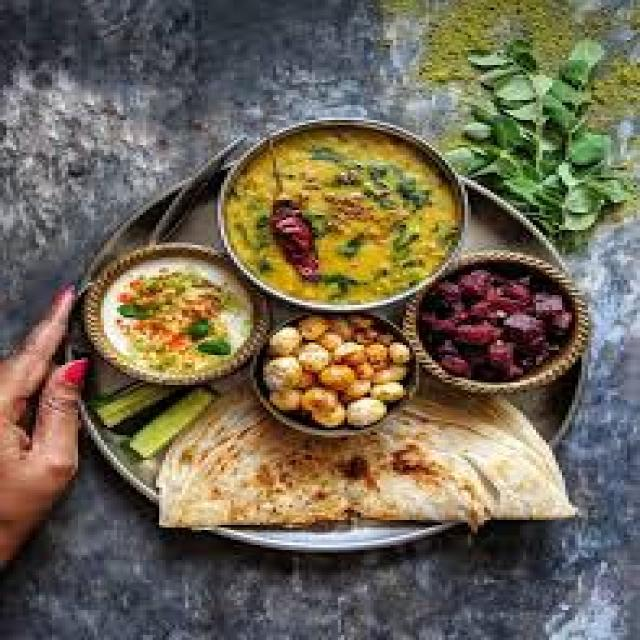roti: (127, 414, 554, 542)
sweet: (84, 259, 261, 379)
veg-fry: (225, 120, 475, 314)
